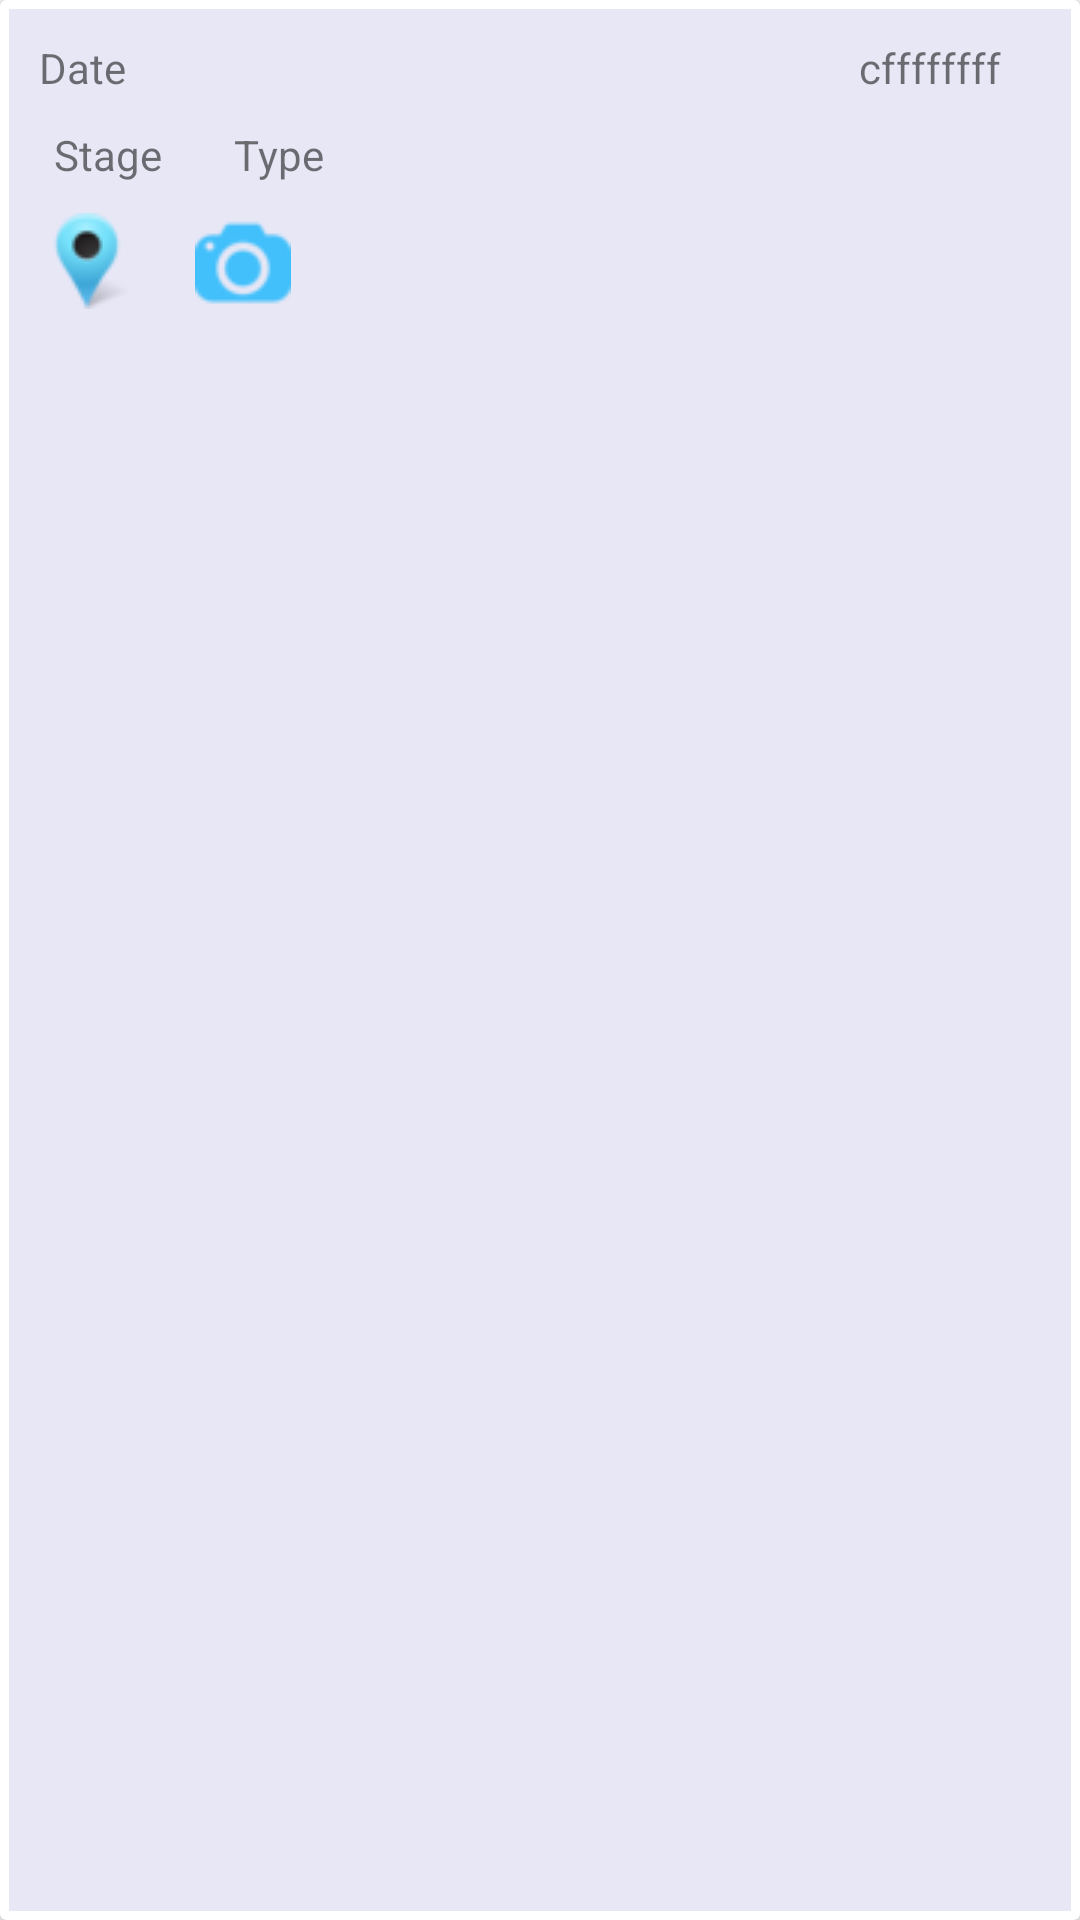

Named icons in this screenshot (1080px×1920px) and their bounding boxes, box=[x1, y1, x2, y2]:
camra: box=[195, 222, 291, 304]
location: box=[55, 213, 118, 309]
